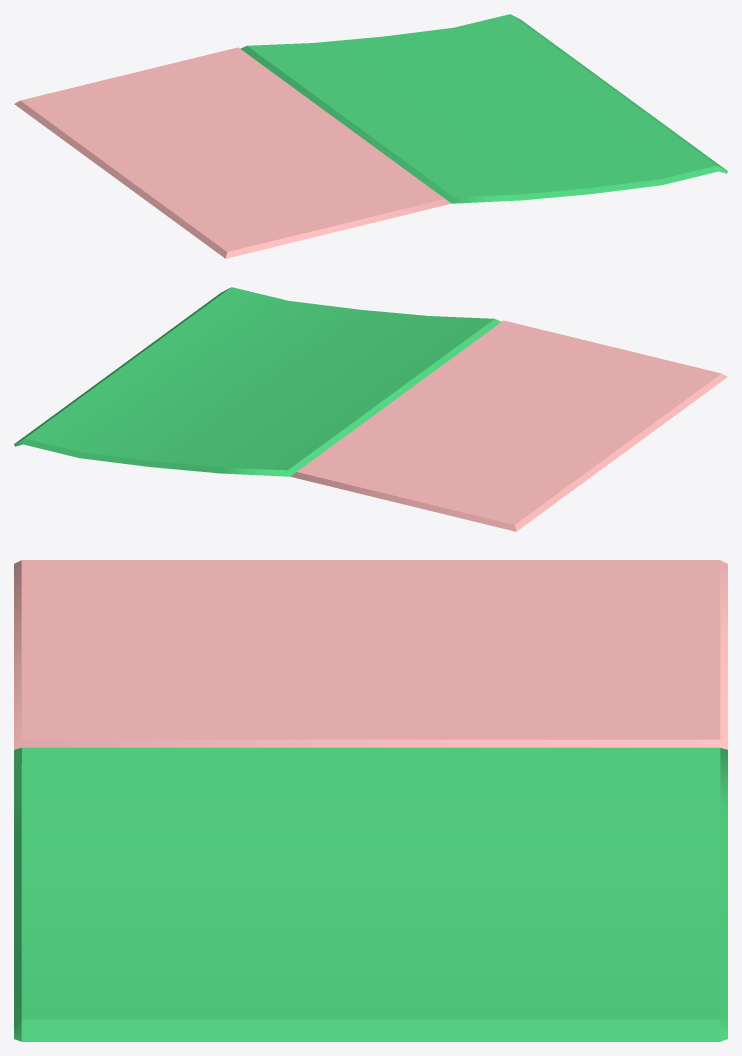
File: mesh_Paving_DrivewayCentre_v1.3.fbx
3 renders of one model, top to bottom at view 1: azimuth 30°, elevation 25°; view 2: azimuth 150°, elevation 25°; view 3: azimuth 270°, elevation 25°, orthographic. The views are drawn at different scales.
Parts seen in each view (by area): view 1: mesh_Paving_DrivewayCentre; view 2: mesh_Paving_DrivewayCentre; view 3: mesh_Paving_DrivewayCentre.
Boxes of the visible parts, x1,y1,x2,y2 form: mesh_Paving_DrivewayCentre: (14,14,727,258); mesh_Paving_DrivewayCentre: (14,287,727,531); mesh_Paving_DrivewayCentre: (14,560,727,1041).
Bounding box in the file's own units: 138 × 10.78 × 100.
